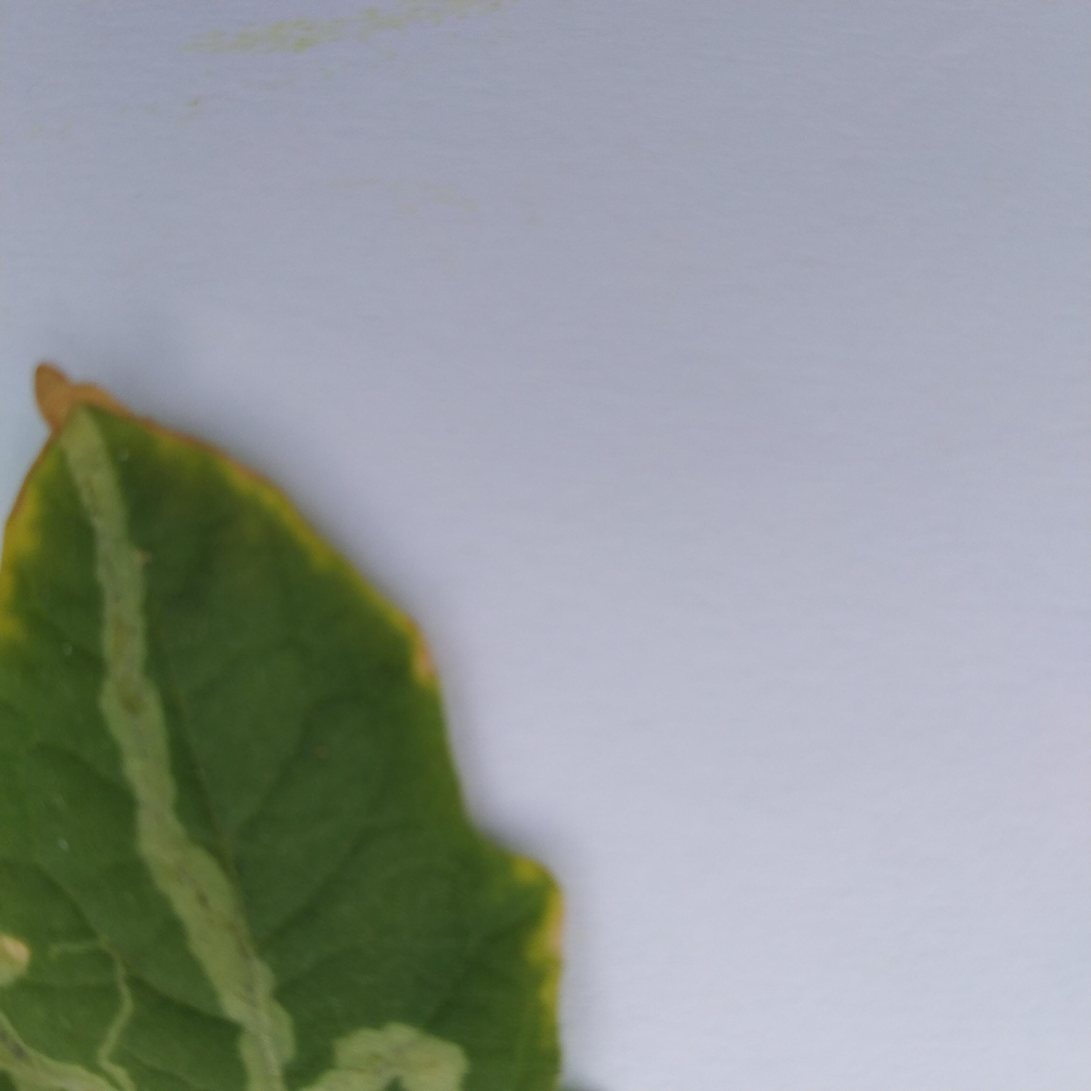Leaf_Miner: (0, 353, 573, 1088)
